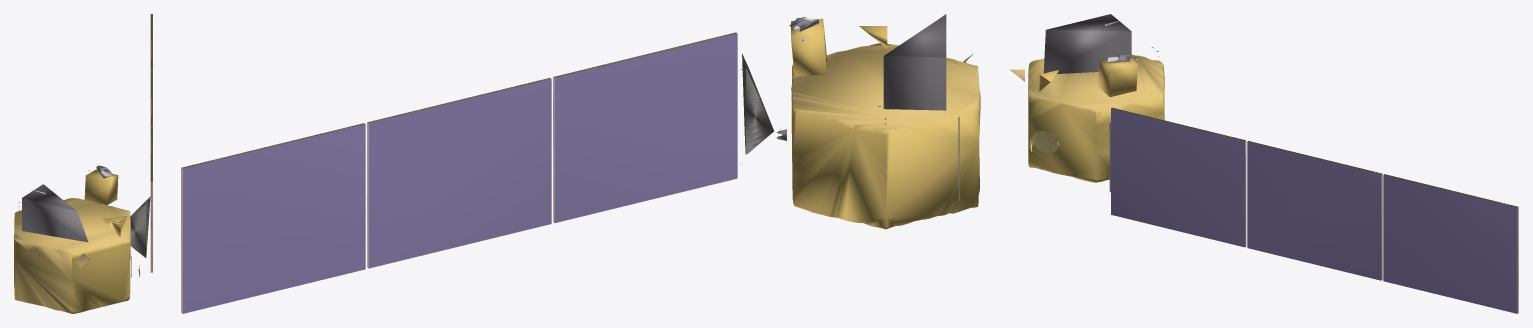
Rendered from earth-observing-1-eo-1.glb.
3 renders of one model, left to right at view 1: azimuth 30°, elevation 25°; view 2: azimuth 150°, elevation 25°; view 3: azimuth 270°, elevation 25°, orthographic. The views are drawn at different scales.
Parts seen in each view (by area): view 1: EO-1_vFINAL [Layer10]; view 2: EO-1_vFINAL [Layer10]; view 3: EO-1_vFINAL [Layer10].
Part boxes in pixels (x1,y1,x2,y2): EO-1_vFINAL [Layer10]: (14,14,152,313); EO-1_vFINAL [Layer10]: (181,14,980,313); EO-1_vFINAL [Layer10]: (1010,14,1518,313).
Bounding box in the file's own units: 109 × 36.91 × 128.
1 material, 1 textured.
